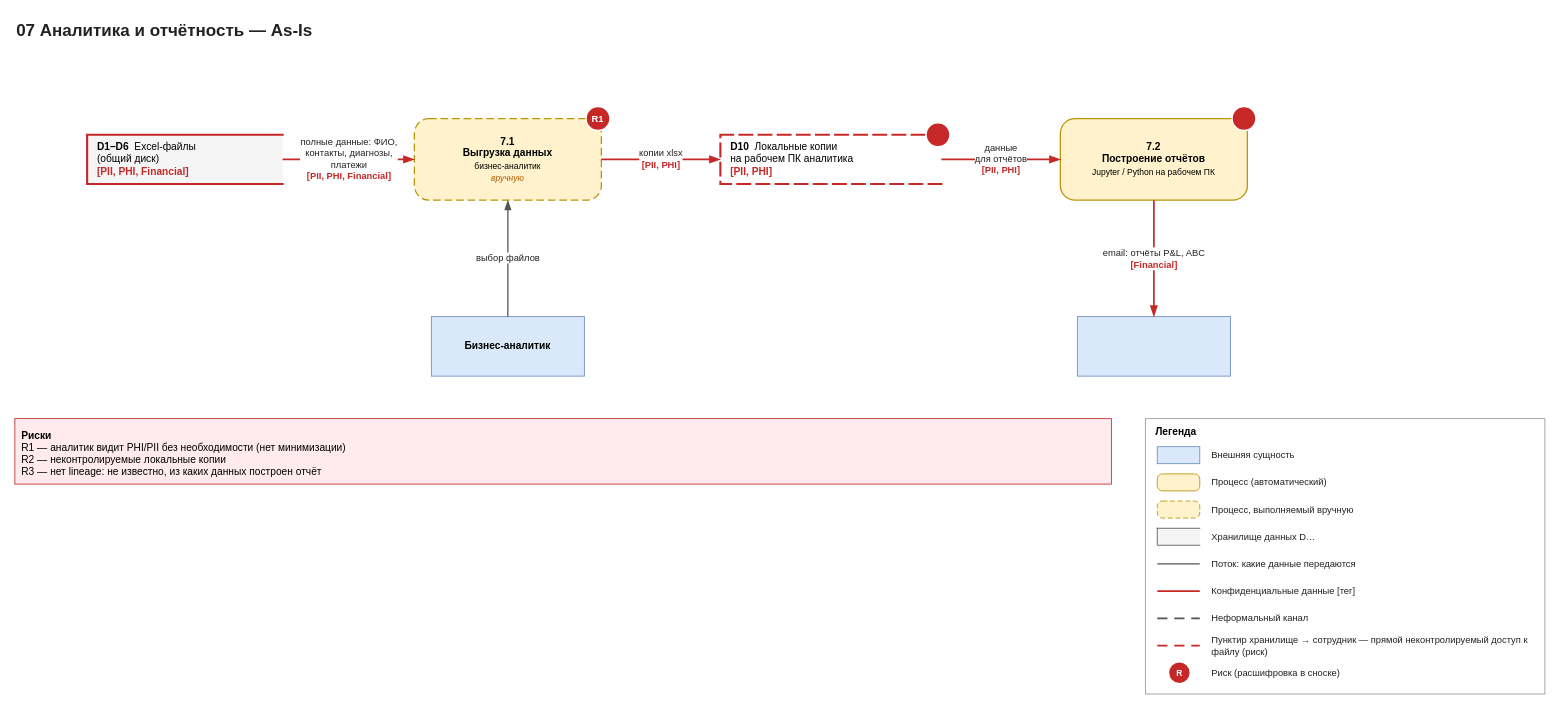
The diagram is 1560 pixels wide and 709 high, and some of its shapes have lost their labels. The centre of each missing label's shape, as x and y in pixels:
"R2" belongs at [937,134].
"R3" belongs at [1243,118].
"Руководство" belongs at [1153,346].
